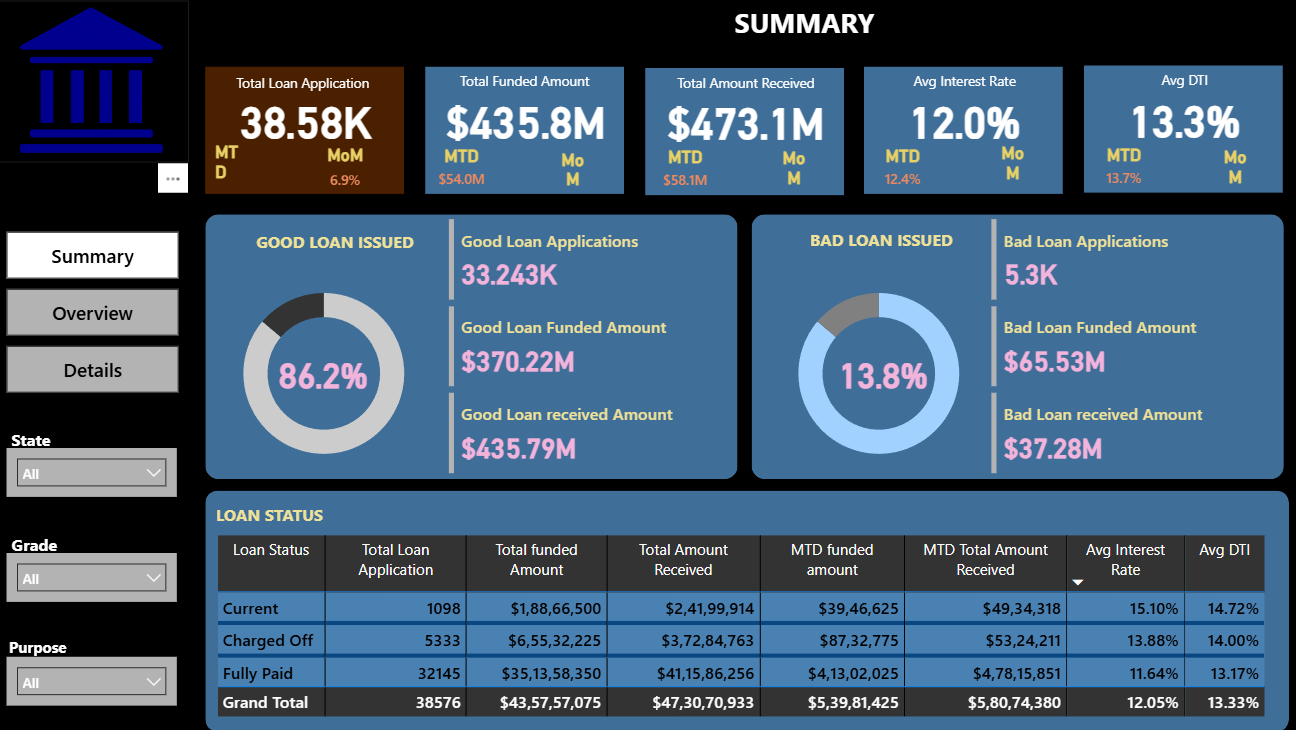

What the dashboard file says about the page in this screenshot:
{"tool":"powerbi","page":{"name":"Summary ","canvas":[1280,720],"ordinal":0},"visuals":[{"type":"shape","box":[0,0,1279.8,55],"z":0},{"type":"card","fields":{"Values":["financial_loan.Avg DTI"]},"box":[1071.1,89.6,195.1,55.2],"z":0,"group":"g4"},{"type":"card","fields":{"Values":["financial_loan.Avg Interest Rate"]},"box":[855.6,90.8,195.1,55.2],"z":0,"group":"g6"},{"type":"card","fields":{"Values":["financial_loan.Total Amount Received"]},"box":[640.1,92,195.1,55.2],"z":0,"group":"g7"},{"type":"slicer","fields":{"Values":["financial_loan.address_state"]},"box":[12.3,442.1,166.9,47.9],"z":0,"group":"g11"},{"type":"slicer","fields":{"Values":["financial_loan.grade"]},"box":[12.3,544.3,166.9,47.9],"z":0,"group":"g12"},{"type":"slicer","fields":{"Values":["financial_loan.purpose"]},"box":[12.3,646.6,166.9,47.9],"z":0,"group":"g13"},{"type":"textbox","box":[12.3,417.6,58.9,39.3],"z":1000,"group":"g11"},{"type":"textbox","box":[12.3,519.8,58.9,39.3],"z":1000,"group":"g12"},{"type":"slicer","fields":{"Values":["financial_loan.address_state"]},"box":[12.3,547.2,166.9,47.9],"z":1000},{"type":"textbox","box":[9.5,622,72.4,39.3],"z":1000,"group":"g13"},{"type":"shape","box":[1069.9,66.3,195.1,125.2],"z":2000,"group":"g10"},{"type":"textbox","box":[1071.1,66.3,195.1,31.9],"z":2000,"group":"g4"},{"type":"shape","box":[423.4,67.5,195.1,125.2],"z":2000,"group":"g2"},{"type":"shape","box":[854.4,67.5,195.1,125.2],"z":2000,"group":"g9"},{"type":"textbox","box":[855.3,67.5,195.1,31.9],"z":2000,"group":"g6"},{"type":"shape","box":[207.8,67.6,195.1,125.2],"z":2000,"group":"g3"},{"type":"shape","box":[638.9,68.7,195.1,125.2],"z":2000,"group":"g8"},{"type":"textbox","box":[639.5,68.7,195.1,31.9],"z":2000,"group":"g7"},{"type":"textbox","box":[12.3,522.7,58.9,39.3],"z":2000},{"type":"card","fields":{"Values":["financial_loan.Good Loan percentage"]},"box":[29.4,220.9,128.8,62.6],"z":3000},{"type":"shape","box":[0,55.2,191.4,665],"z":4000},{"type":"card","fields":{"Values":["financial_loan.Total funded Amount"]},"box":[424.6,90.8,195.1,55.2],"z":4000,"group":"g5"},{"type":"card","fields":{"Values":["financial_loan.Total Loan Application"]},"box":[209.1,90.9,195.1,55.2],"z":4000,"group":"g3"},{"type":"card","title":"MTD","fields":{"Values":["financial_loan.Avg MTD DTI"]},"box":[1081,143.7,56.4,47.9],"z":4000,"group":"g4"},{"type":"card","title":"MTD","fields":{"Values":["financial_loan.MTD  Avg Int Rate"]},"box":[863.7,144.9,56.4,47.9],"z":4000,"group":"g6"},{"type":"card","title":"MTD","fields":{"Values":["financial_loan.MTD Total Amount Received"]},"box":[648.8,146.1,56.4,47.9],"z":4000,"group":"g7"},{"type":"textbox","box":[402.5,1.2,500.6,54],"z":5000},{"type":"textbox","box":[423.7,67.5,195.1,31.9],"z":5000,"group":"g5"},{"type":"textbox","box":[203.9,69.4,198.8,31.9],"z":5000,"group":"g3"},{"type":"group","id":"g1","title":"Group 1","box":[203.9,67.6,200.3,125.2],"z":6000},{"type":"card","title":"MTD","fields":{"Values":["financial_loan.MTD Loan Applications"]},"box":[212.9,141.8,45.4,47.9],"z":6000,"group":"g3"},{"type":"card","title":"MoM","fields":{"Values":["financial_loan.MoM Avg Int Rate"]},"box":[974.8,141.9,51.5,49.1],"z":6000,"group":"g6"},{"type":"card","title":"MTD","fields":{"Values":["financial_loan.MTD funded amount"]},"box":[431.5,144.9,56.4,47.9],"z":6000,"group":"g5"},{"type":"card","title":"MoM","fields":{"Values":["financial_loan.MoM Avg DTI"]},"box":[1192.1,145.6,51.5,49.1],"z":6000,"group":"g4"},{"type":"card","title":"MoM","fields":{"Values":["financial_loan.MoM total received amount"]},"box":[759.9,147,49.1,44.2],"z":6000,"group":"g7"},{"type":"group","id":"g2","title":"Group 2","box":[423.4,67.5,196.3,128.2],"z":7000},{"type":"card","title":"MoM","fields":{"Values":["financial_loan.MoM Loan Application"]},"box":[313,143.7,63.8,44.2],"z":7000,"group":"g3"},{"type":"card","title":"MoM","fields":{"Values":["financial_loan.MoM total funded amount"]},"box":[542.6,147.9,51.5,47.9],"z":7000,"group":"g5"},{"type":"group","id":"g3","title":"Group 2","box":[203.9,67.6,200.3,125.2],"z":7002,"group":"g1"},{"type":"group","id":"g4","title":"Group 3","box":[1071.1,66.3,195.1,128.4],"z":7003,"group":"g10"},{"type":"group","id":"g5","title":"Group 3","box":[423.7,67.5,196,128.2],"z":7003,"group":"g2"},{"type":"group","id":"g6","title":"Group 3","box":[855.3,67.5,195.4,125.2],"z":7003,"group":"g9"},{"type":"group","id":"g7","title":"Group 3","box":[639.5,68.7,195.7,125.2],"z":7003,"group":"g8"},{"type":"group","id":"g8","title":"Group 2","box":[638.9,68.7,196.3,125.2],"z":8000},{"type":"group","id":"g9","title":"Group 2","box":[854.4,67.5,196.3,125.2],"z":9000},{"type":"group","id":"g10","title":"Group 2","box":[1069.9,66.3,196.3,128.4],"z":10000},{"type":"shape","box":[743.6,212.3,522.7,260.1],"z":11000},{"type":"textbox","box":[739.9,220.9,240.5,41.7],"z":12000},{"type":"donutChart","fields":{"Y":["financial_loan.Total Loan Application"],"Category":["financial_loan.Good vs Bad Loan "]},"box":[743.6,265,250.3,207.4],"z":13000},{"type":"card","fields":{"Values":["financial_loan.Bad Loan percentage"]},"box":[808.6,337.4,128.8,62.6],"z":14000},{"type":"cardVisual","fields":{"Data":["financial_loan.Bad Loan Applications","financial_loan.Bad Loan Funded Amount","financial_loan.Bad Loan received Amount"]},"box":[974.2,212.3,288.3,260.1],"z":15000},{"type":"shape","box":[207.4,483.4,1063.8,236.8],"z":16000},{"type":"tableEx","fields":{"Values":["financial_loan.loan_status","financial_loan.Total Loan Application","financial_loan.Total funded Amount","financial_loan.Total Amount Received","financial_loan.MTD funded amount","financial_loan.MTD Total Amount Received","financial_loan.Avg Interest Rate","financial_loan.Avg DTI"]},"box":[213.5,522.7,1040.5,197.5],"z":17000},{"type":"textbox","box":[198.8,490.8,143.6,31.9],"z":18000},{"type":"group","id":"g11","title":"Group 4","box":[12.3,417.6,166.9,72.4],"z":19000},{"type":"group","id":"g12","title":"Group 4","box":[12.3,519.8,166.9,72.4],"z":20000},{"type":"group","id":"g13","title":"Group 4","box":[9.5,622,169.7,72.5],"z":21000},{"type":"shape","box":[207.4,212.3,522.7,260.1],"z":22000},{"type":"cardVisual","fields":{"Data":["financial_loan.Good Loan Applications","financial_loan.Good Loan Funded Amount","financial_loan.Good Loan received Amount"]},"box":[441.7,212.3,288.3,260.1],"z":23000},{"type":"donutChart","fields":{"Y":["financial_loan.Total Loan Application"],"Category":["financial_loan.Good vs Bad Loan "]},"box":[198.8,265,250.3,207.4],"z":24000},{"type":"card","fields":{"Values":["financial_loan.Good Loan percentage"]},"box":[258.9,337.4,128.8,62.6],"z":25000},{"type":"textbox","box":[203.7,223.3,240.5,41.7],"z":26000},{"type":"image","box":[0,2.5,191.4,159.5],"z":26001},{"type":"pageNavigator","box":[12.3,229.4,169.3,158.3],"z":26002}]}

Visuals, with their boxes in screenshot pixels (x1, y1, x2, y2), scaled from the page's 1280x720 canvas onto the 1296x730 screenshot:
shape: x1=0 y1=0 x2=1295 y2=56
card - financial_loan.Avg DTI: x1=1084 y1=91 x2=1282 y2=147
card - financial_loan.Avg Interest Rate: x1=866 y1=92 x2=1064 y2=148
card - financial_loan.Total Amount Received: x1=648 y1=93 x2=846 y2=149
slicer - financial_loan.address_state: x1=12 y1=448 x2=181 y2=497
slicer - financial_loan.grade: x1=12 y1=552 x2=181 y2=600
slicer - financial_loan.purpose: x1=12 y1=656 x2=181 y2=704
textbox: x1=12 y1=423 x2=72 y2=463
textbox: x1=12 y1=527 x2=72 y2=567
slicer - financial_loan.address_state: x1=12 y1=555 x2=181 y2=603
textbox: x1=10 y1=631 x2=83 y2=670
shape: x1=1083 y1=67 x2=1281 y2=194
textbox: x1=1084 y1=67 x2=1282 y2=100
shape: x1=429 y1=68 x2=626 y2=195
shape: x1=865 y1=68 x2=1063 y2=195
textbox: x1=866 y1=68 x2=1064 y2=101
shape: x1=210 y1=69 x2=408 y2=195
shape: x1=647 y1=70 x2=844 y2=197
textbox: x1=647 y1=70 x2=845 y2=102
textbox: x1=12 y1=530 x2=72 y2=570
card - financial_loan.Good Loan percentage: x1=30 y1=224 x2=160 y2=287
shape: x1=0 y1=56 x2=194 y2=729
card - financial_loan.Total funded Amount: x1=430 y1=92 x2=627 y2=148
card - financial_loan.Total Loan Application: x1=212 y1=92 x2=409 y2=148
"MTD" card: x1=1095 y1=146 x2=1152 y2=194
"MTD" card: x1=874 y1=147 x2=932 y2=195
"MTD" card: x1=657 y1=148 x2=714 y2=197
textbox: x1=408 y1=1 x2=914 y2=56
textbox: x1=429 y1=68 x2=627 y2=101
textbox: x1=206 y1=70 x2=408 y2=103
"Group 1" group: x1=206 y1=69 x2=409 y2=195
"MTD" card: x1=216 y1=144 x2=262 y2=192
"MoM" card: x1=987 y1=144 x2=1039 y2=194
"MTD" card: x1=437 y1=147 x2=494 y2=195
"MoM" card: x1=1207 y1=148 x2=1259 y2=197
"MoM" card: x1=769 y1=149 x2=819 y2=194
"Group 2" group: x1=429 y1=68 x2=627 y2=198
"MoM" card: x1=317 y1=146 x2=382 y2=191
"MoM" card: x1=549 y1=150 x2=602 y2=199
"Group 2" group: x1=206 y1=69 x2=409 y2=195
"Group 3" group: x1=1084 y1=67 x2=1282 y2=197
"Group 3" group: x1=429 y1=68 x2=627 y2=198
"Group 3" group: x1=866 y1=68 x2=1064 y2=195
"Group 3" group: x1=647 y1=70 x2=846 y2=197
"Group 2" group: x1=647 y1=70 x2=846 y2=197
"Group 2" group: x1=865 y1=68 x2=1064 y2=195
"Group 2" group: x1=1083 y1=67 x2=1282 y2=197
shape: x1=753 y1=215 x2=1282 y2=479
textbox: x1=749 y1=224 x2=993 y2=266
donutChart - financial_loan.Total Loan Application x financial_loan.Good vs Bad Loan : x1=753 y1=269 x2=1006 y2=479
card - financial_loan.Bad Loan percentage: x1=819 y1=342 x2=949 y2=406
cardVisual - financial_loan.Bad Loan Applications x financial_loan.Bad Loan Funded Amount: x1=986 y1=215 x2=1278 y2=479
shape: x1=210 y1=490 x2=1287 y2=729
tableEx - financial_loan.loan_status x financial_loan.Total Loan Application: x1=216 y1=530 x2=1270 y2=729
textbox: x1=201 y1=498 x2=347 y2=530
"Group 4" group: x1=12 y1=423 x2=181 y2=497
"Group 4" group: x1=12 y1=527 x2=181 y2=600
"Group 4" group: x1=10 y1=631 x2=181 y2=704
shape: x1=210 y1=215 x2=739 y2=479
cardVisual - financial_loan.Good Loan Applications x financial_loan.Good Loan Funded Amount: x1=447 y1=215 x2=739 y2=479
donutChart - financial_loan.Total Loan Application x financial_loan.Good vs Bad Loan : x1=201 y1=269 x2=455 y2=479
card - financial_loan.Good Loan percentage: x1=262 y1=342 x2=393 y2=406
textbox: x1=206 y1=226 x2=450 y2=269
image: x1=0 y1=3 x2=194 y2=164
pageNavigator: x1=12 y1=233 x2=184 y2=393
